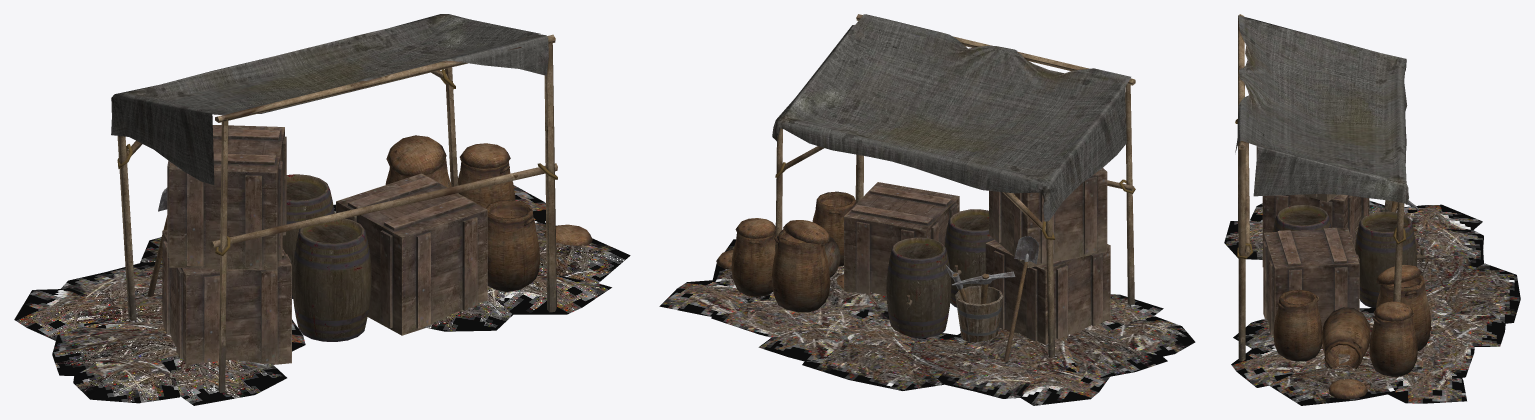
The model's file is SHO_Small_Stand_A-transformed.glb.
3 renders of one model, left to right at view 1: azimuth 30°, elevation 25°; view 2: azimuth 150°, elevation 25°; view 3: azimuth 270°, elevation 25°, orthographic. The views are drawn at different scales.
Visible parts, largest first — view 1: default; view 2: default; view 3: default.
Boxes of the visible parts, <box> form: default: <box>14,14,630,405</box>; default: <box>659,14,1195,405</box>; default: <box>1224,14,1520,405</box>.
Size of the model in its own units: 3.65 by 1.77 by 2.16.
Materials: 7 (7 with a texture image).
